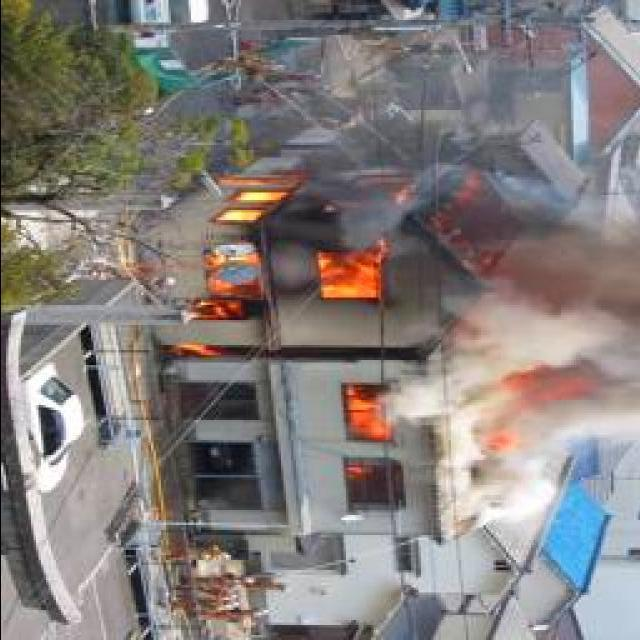Fire: (133, 170, 424, 364), (482, 364, 581, 462), (343, 386, 385, 508)
